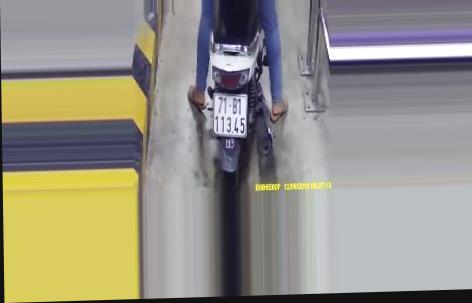License_Plate: (206, 90, 251, 138)
